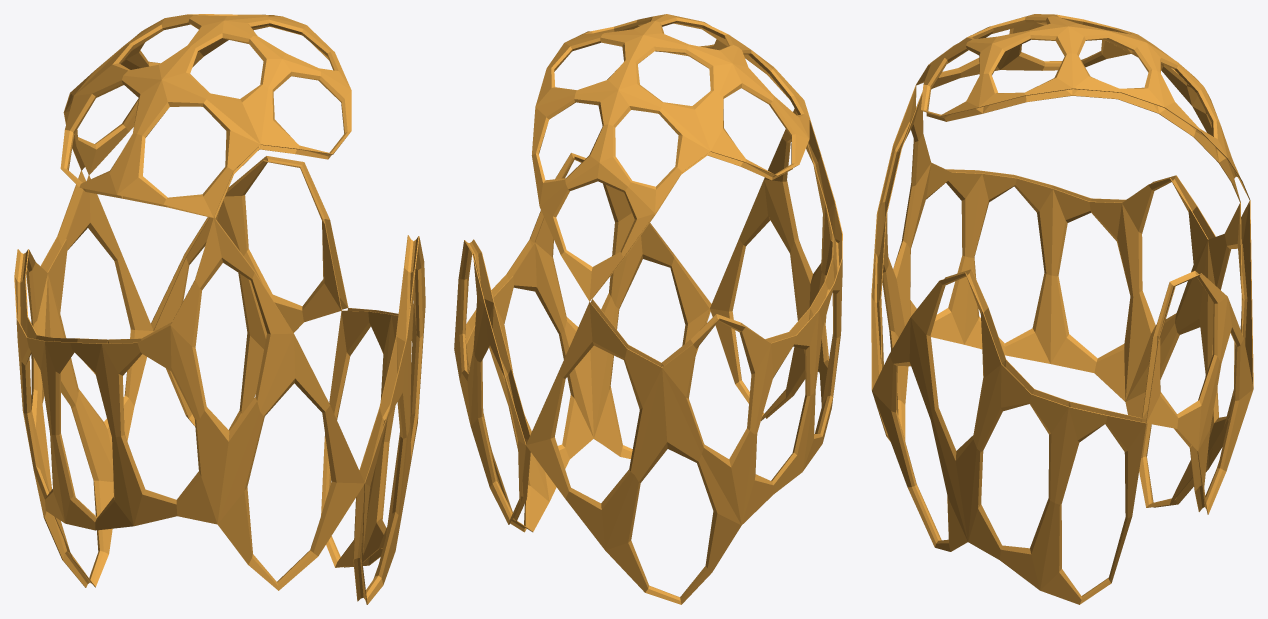
File: AdornoGema3.fbx
3 views of the same model, side by side, from view 1: azimuth 30°, elevation 25°; view 2: azimuth 150°, elevation 25°; view 3: azimuth 270°, elevation 25° (orthographic). The views are drawn at different scales.
Parts seen in each view (by area): view 1: Adornogema3; view 2: Adornogema3; view 3: Adornogema3.
Part boxes in pixels (x1=…): Adornogema3: x1=14, y1=14, x2=425, y2=604; Adornogema3: x1=454, y1=14, x2=842, y2=604; Adornogema3: x1=871, y1=14, x2=1253, y2=604.
Size of the model in its own units: 490 by 745 by 494.
